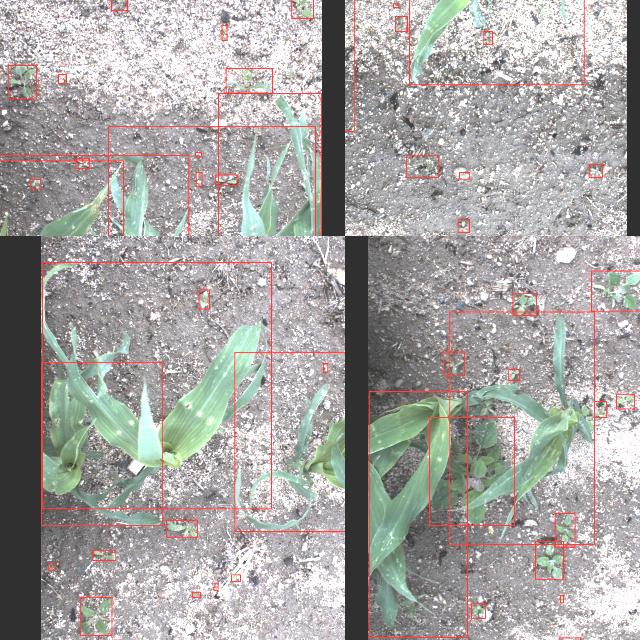crop: (42, 263, 272, 509), (450, 312, 594, 544), (368, 391, 468, 637), (108, 126, 316, 236), (234, 352, 345, 531), (41, 362, 162, 526), (0, 155, 188, 236), (409, 0, 584, 85), (218, 93, 321, 236), (0, 160, 123, 236)
weed: (428, 418, 514, 526), (591, 271, 640, 311), (80, 596, 112, 636), (225, 68, 272, 94), (534, 541, 564, 579), (8, 65, 36, 99), (406, 156, 438, 178), (555, 513, 575, 547), (513, 294, 537, 316), (166, 520, 198, 536), (444, 352, 464, 376), (292, 0, 314, 18), (215, 174, 237, 186), (616, 395, 634, 409), (92, 551, 115, 561), (470, 604, 486, 618), (198, 290, 210, 308), (395, 16, 407, 32), (595, 401, 607, 417), (589, 165, 603, 178), (111, 0, 127, 11), (458, 220, 470, 232), (75, 158, 89, 168), (508, 370, 520, 380), (483, 32, 492, 44), (30, 179, 40, 189), (196, 172, 202, 188), (458, 172, 469, 180), (58, 74, 66, 84), (231, 574, 241, 582), (222, 26, 226, 40), (48, 564, 54, 570), (324, 363, 328, 372), (192, 592, 200, 596), (560, 595, 564, 603), (195, 152, 201, 156), (214, 584, 218, 590), (394, 4, 398, 8)
